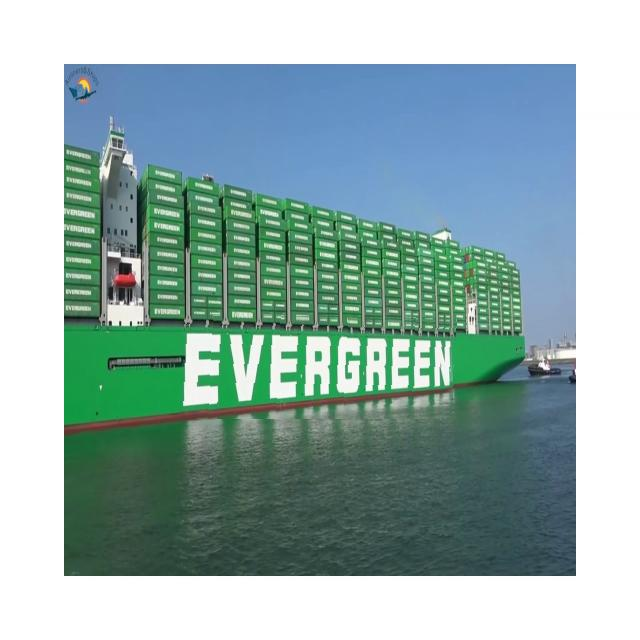OCR: (179, 314, 457, 419)
